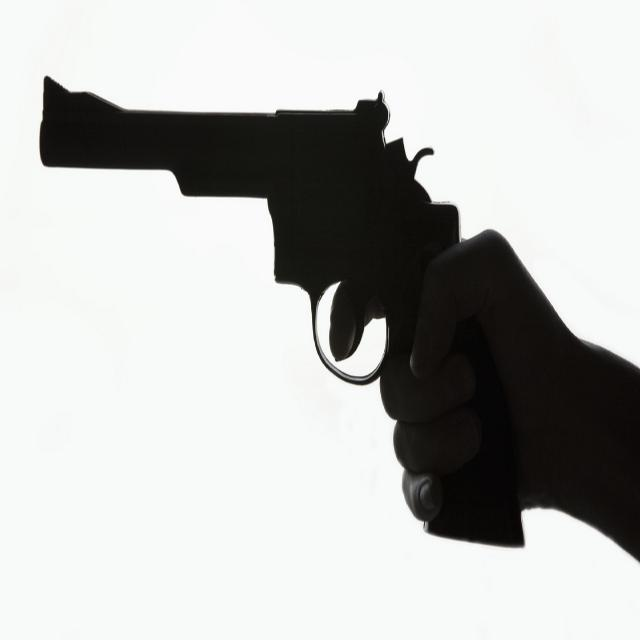gun: (39, 74, 524, 549)
